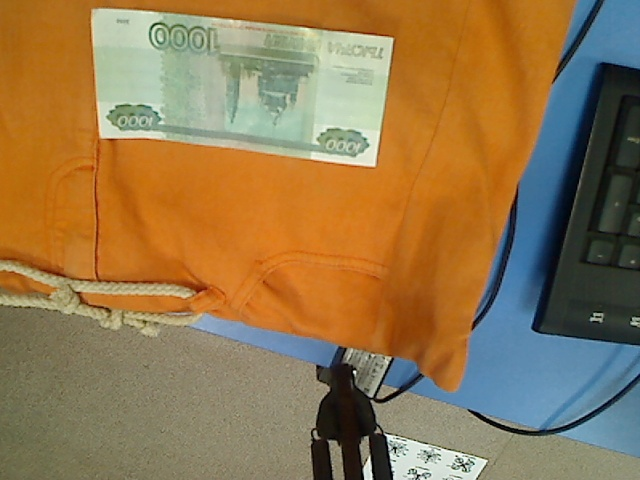banknotes: (86, 5, 395, 174)
